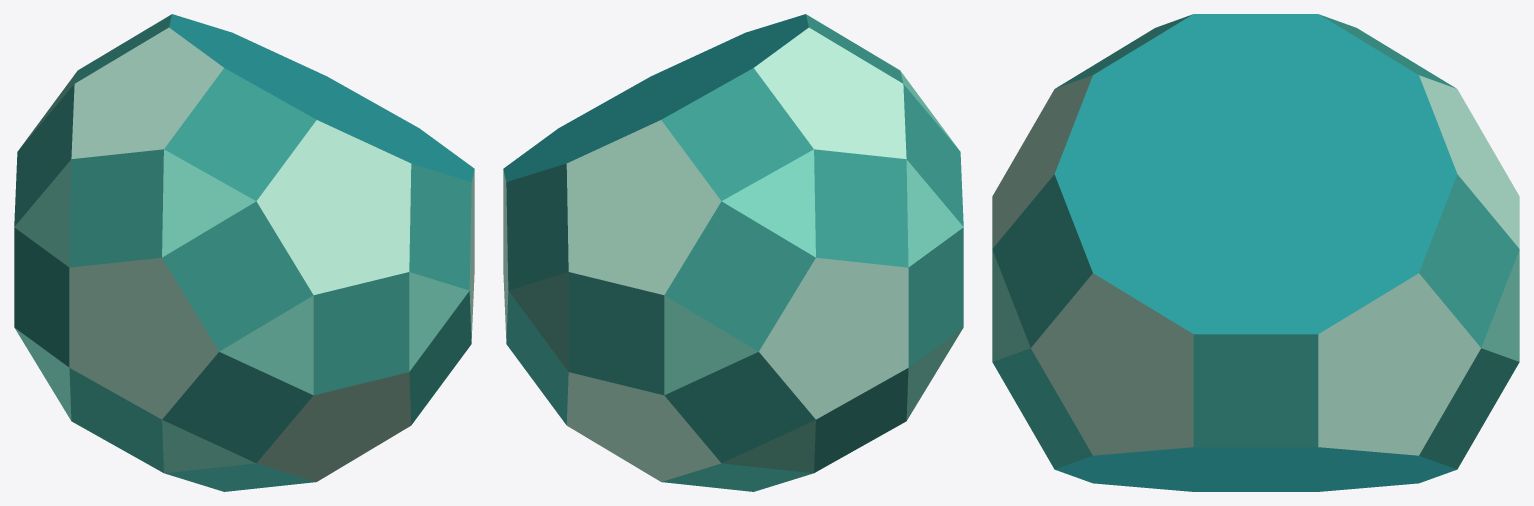
Rendered from J81.RombicosidodecaedroMetabidisminuido.gltf.
3 renders of one model, left to right at view 1: azimuth 30°, elevation 25°; view 2: azimuth 150°, elevation 25°; view 3: azimuth 270°, elevation 25°, orthographic. The views are drawn at different scales.
Visible parts, largest first — view 1: J81.RombicosidodecaedroMetabidisminuido; view 2: J81.RombicosidodecaedroMetabidisminuido; view 3: J81.RombicosidodecaedroMetabidisminuido.
Part boxes in pixels (x1,y1,x2,y2): J81.RombicosidodecaedroMetabidisminuido: [14, 14, 474, 491]; J81.RombicosidodecaedroMetabidisminuido: [503, 14, 963, 491]; J81.RombicosidodecaedroMetabidisminuido: [992, 14, 1519, 491].
Bounding box in the file's own units: 18.97 × 18.97 × 18.97.
